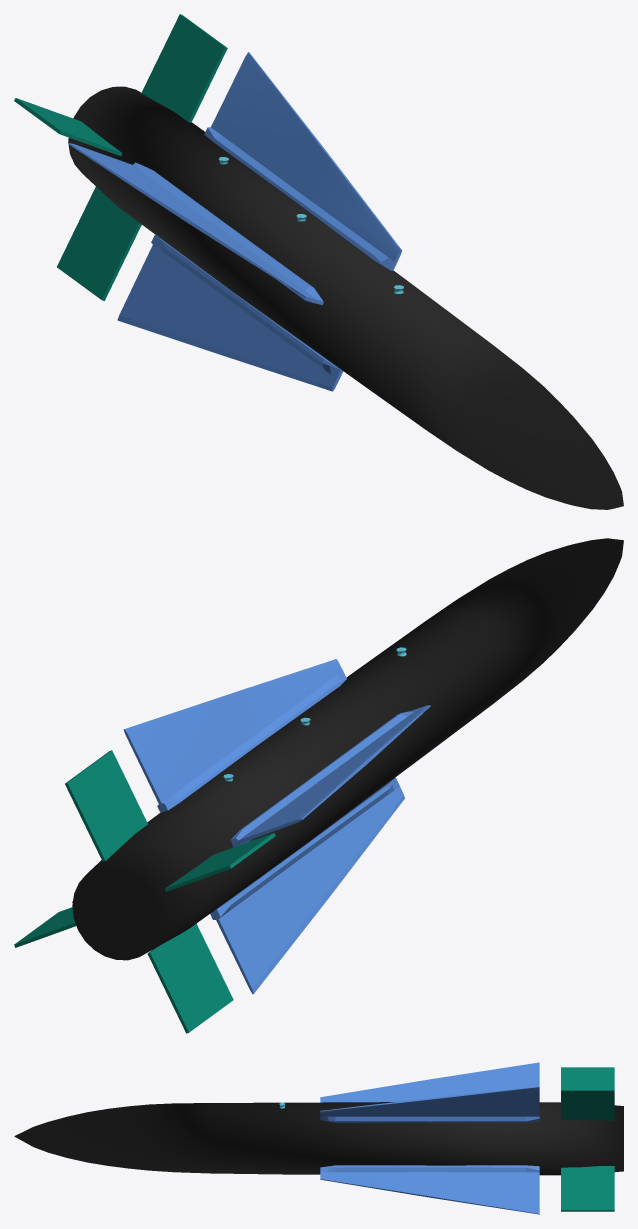
File: Aim-54_Phoenix.obj
The picture shows the model from 3 angles, top to bottom: view 1: azimuth 30°, elevation 25°; view 2: azimuth 150°, elevation 25°; view 3: azimuth 270°, elevation 25°; orthographic projection. The views are drawn at different scales.
Visible parts, largest first — view 1: body, wing02, wing04, wing, WingC, WingB, WingA; view 2: body, wing02, wing04, WingC, wing, WingB, WingA, WingD; view 3: body, wing04, wing02, wing, WingD, WingB, WingA.
Part boxes in pixels (bbox=[...]): body: bbox=[68, 86, 623, 509]; wing02: bbox=[204, 52, 401, 270]; wing04: bbox=[117, 235, 343, 391]; wing: bbox=[68, 143, 323, 305]; WingC: bbox=[57, 187, 141, 300]; WingB: bbox=[141, 14, 227, 122]; WingA: bbox=[14, 98, 122, 156]; body: bbox=[72, 538, 623, 960]; wing02: bbox=[123, 659, 346, 812]; wing04: bbox=[72, 777, 404, 994]; WingC: bbox=[147, 923, 233, 1033]; wing: bbox=[230, 705, 430, 847]; WingB: bbox=[65, 750, 147, 861]; WingA: bbox=[165, 833, 275, 891]; WingD: bbox=[14, 907, 76, 947]; body: bbox=[14, 1102, 623, 1175]; wing04: bbox=[320, 1165, 539, 1214]; wing02: bbox=[320, 1086, 539, 1122]; wing: bbox=[320, 1062, 539, 1102]; WingD: bbox=[561, 1166, 614, 1211]; WingB: bbox=[561, 1089, 614, 1120]; WingA: bbox=[561, 1067, 614, 1088].
Bounding box in the file's own units: 163 × 159 × 620.
